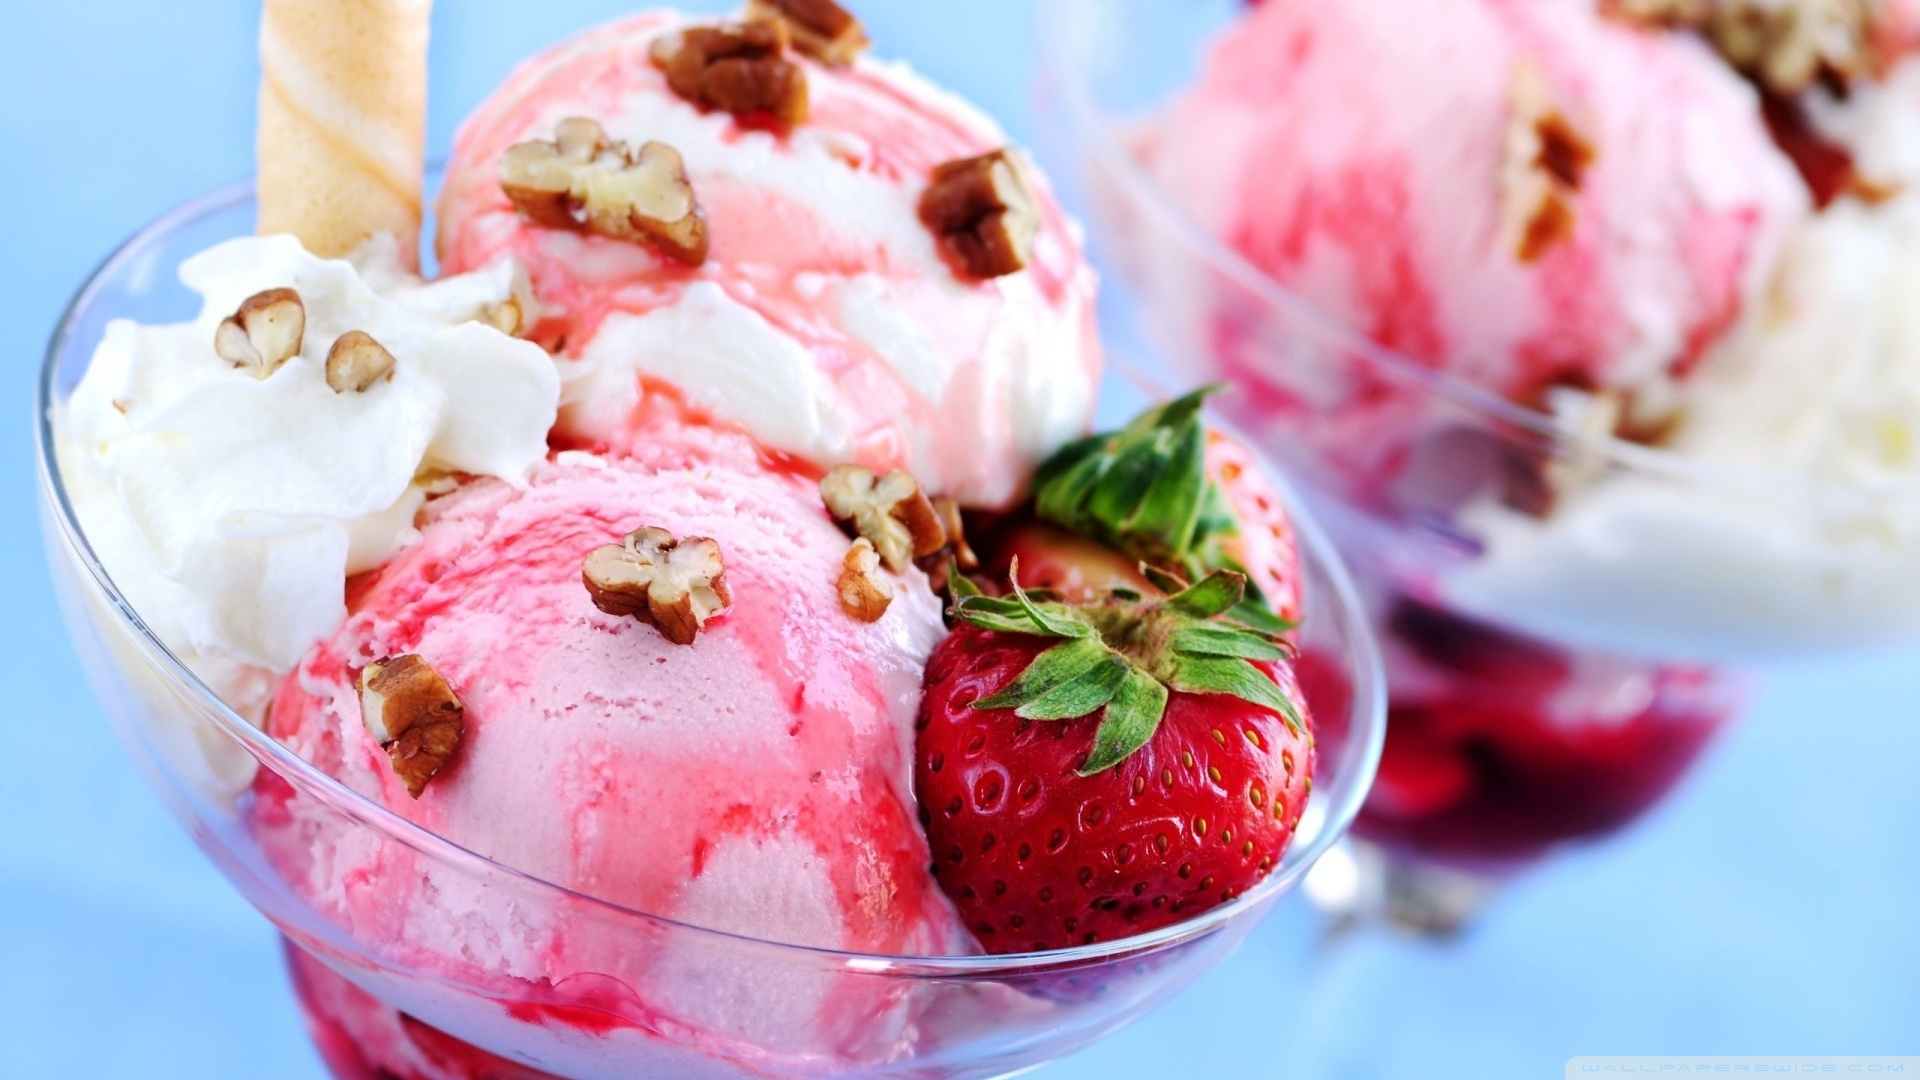ice-cream: (287, 477, 948, 1042), (1134, 3, 1796, 485), (446, 8, 1098, 485)
